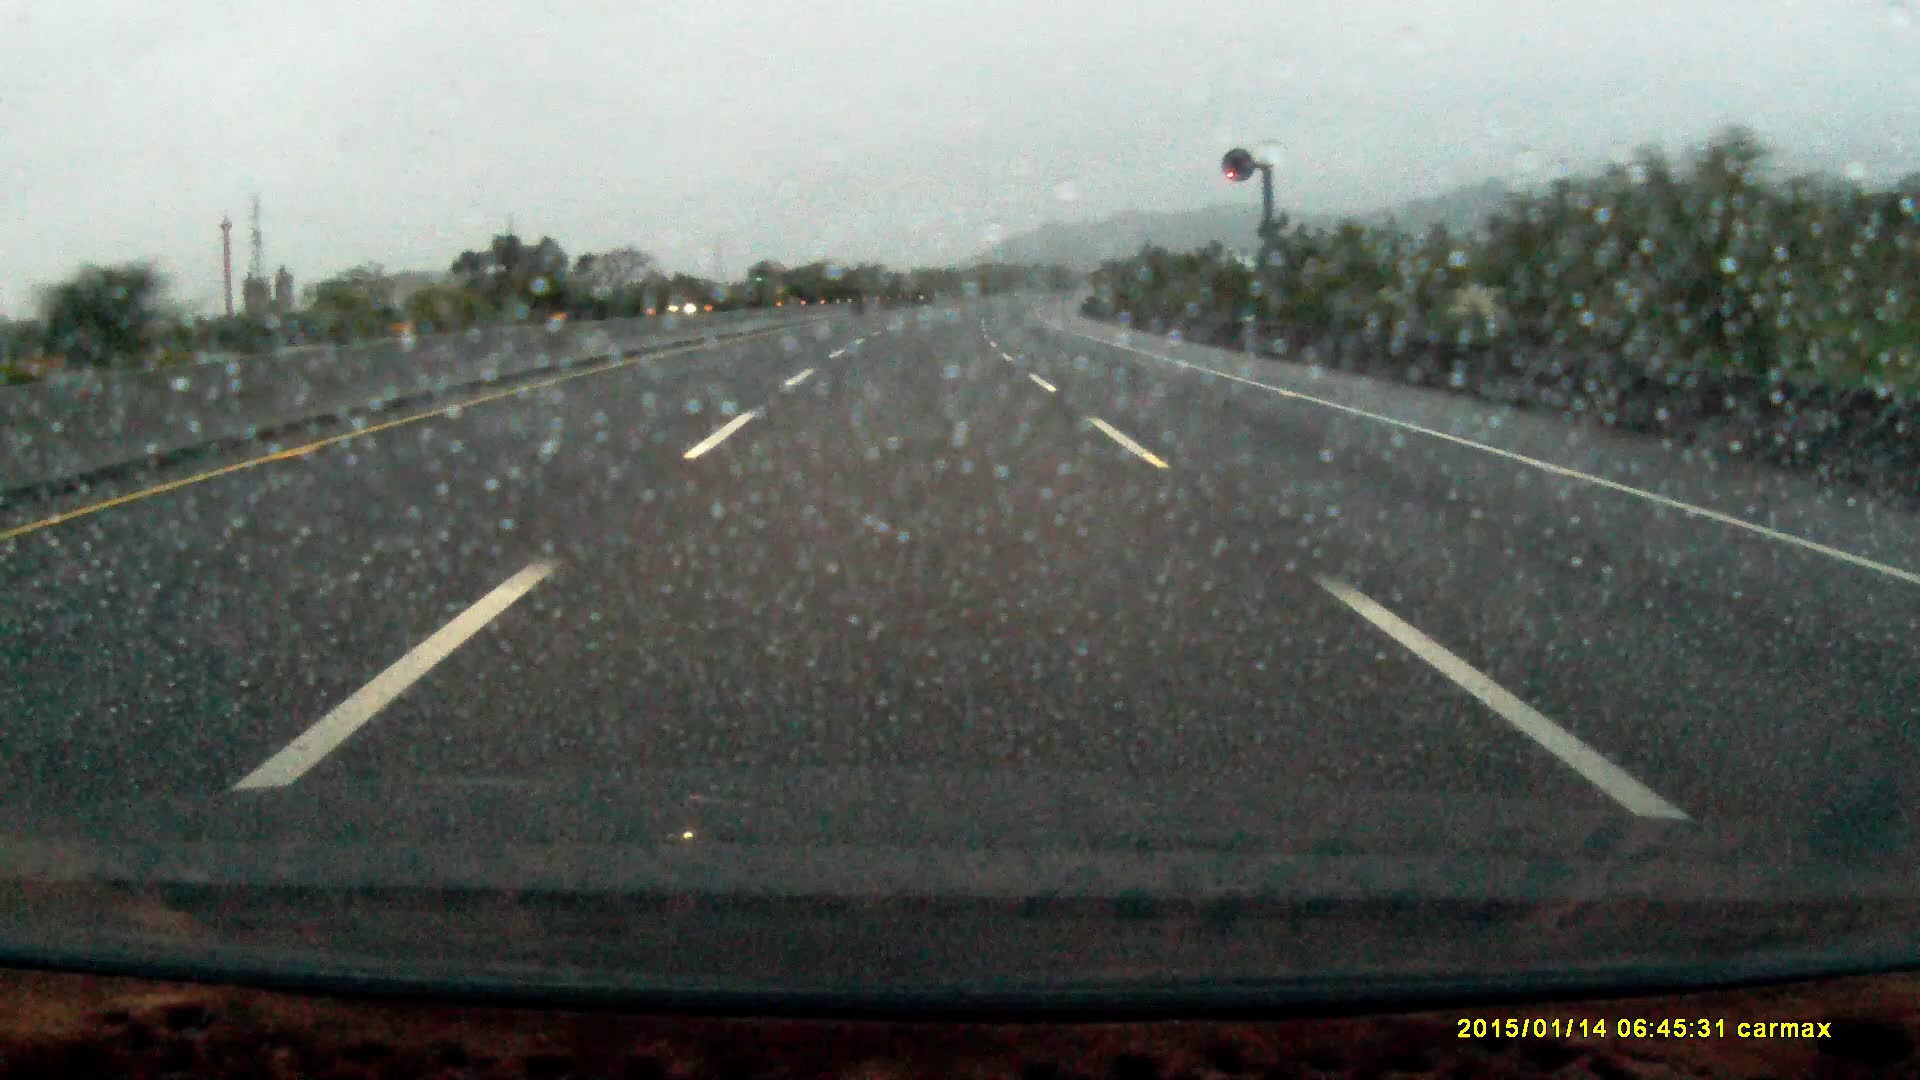vehicle: (745, 261, 789, 303), (669, 291, 715, 314)
